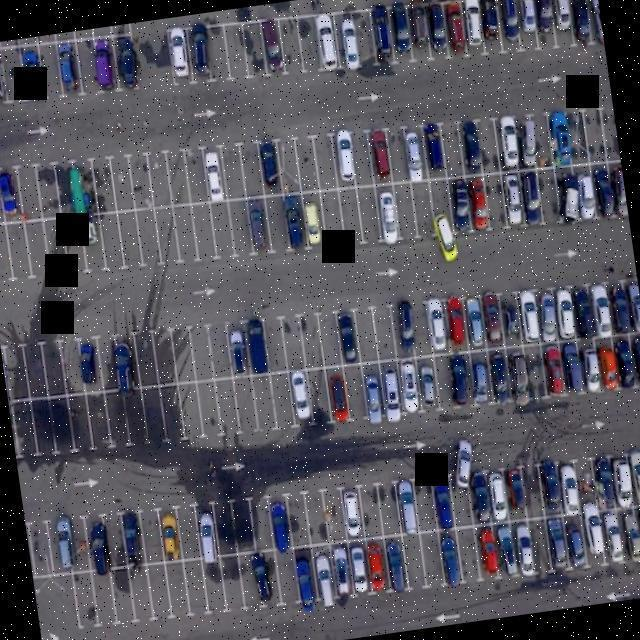car: (108, 31, 142, 93), (164, 24, 196, 88), (264, 492, 296, 554), (311, 8, 341, 74), (358, 361, 389, 424), (471, 521, 502, 584), (16, 41, 48, 102), (54, 38, 85, 100), (192, 501, 222, 565), (90, 37, 122, 97), (378, 358, 406, 426), (257, 15, 287, 78), (423, 296, 453, 358), (392, 476, 422, 538), (338, 482, 368, 544), (155, 504, 186, 564), (345, 538, 375, 599), (394, 356, 424, 416), (542, 514, 572, 574), (242, 319, 273, 376), (224, 320, 253, 380), (429, 474, 458, 534), (335, 307, 363, 368), (324, 366, 352, 426), (436, 528, 464, 588), (461, 294, 489, 354), (286, 369, 314, 428), (464, 175, 492, 234), (0, 165, 26, 226)
free: (41, 216, 72, 278), (96, 210, 128, 270), (230, 374, 261, 435), (114, 207, 144, 270), (157, 380, 187, 443), (293, 134, 323, 196), (354, 182, 384, 244), (317, 188, 348, 248), (89, 154, 119, 216), (176, 380, 206, 442), (274, 138, 304, 198), (152, 206, 182, 266), (108, 154, 138, 214), (28, 396, 58, 456), (310, 132, 341, 190), (15, 162, 44, 224), (236, 141, 266, 200), (336, 187, 366, 246), (138, 384, 168, 443), (409, 178, 438, 239), (263, 194, 292, 255), (47, 393, 76, 454), (370, 304, 400, 362), (182, 146, 211, 206), (190, 200, 219, 260), (145, 150, 174, 210), (34, 161, 63, 221), (3, 344, 32, 404), (85, 391, 114, 451), (172, 202, 200, 264), (168, 327, 198, 384), (10, 397, 38, 458), (90, 567, 118, 628), (188, 324, 217, 382), (151, 329, 180, 387), (145, 562, 174, 620), (226, 198, 254, 258), (126, 152, 154, 212), (134, 208, 162, 268), (66, 392, 94, 452), (24, 217, 51, 279), (109, 564, 136, 626), (250, 373, 278, 432), (164, 559, 192, 618), (208, 199, 235, 260), (22, 343, 50, 401), (182, 558, 210, 616), (392, 182, 419, 242), (5, 220, 32, 280), (279, 312, 306, 372), (132, 331, 160, 388), (298, 314, 327, 369), (195, 379, 222, 438), (40, 342, 68, 398), (164, 152, 193, 206), (0, 222, 15, 283)
